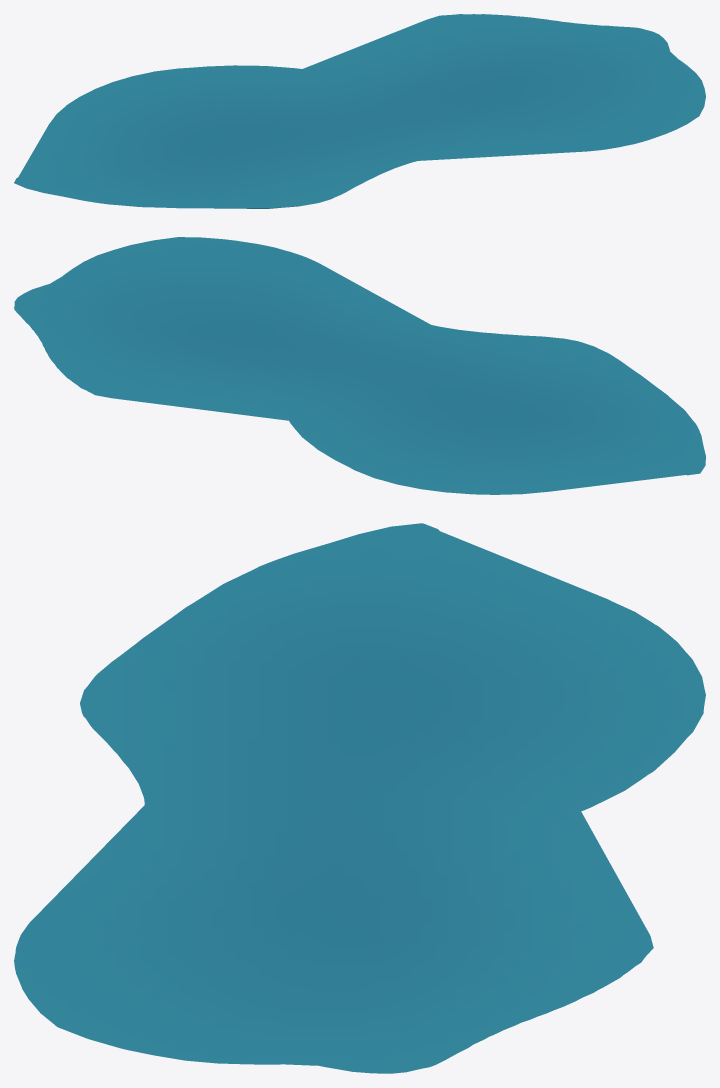
The model's file is see.fbx.
3 views of the same model, one above another, from view 1: azimuth 30°, elevation 25°; view 2: azimuth 150°, elevation 25°; view 3: azimuth 270°, elevation 25° (orthographic). The views are drawn at different scales.
Parts seen in each view (by area): view 1: See; view 2: See; view 3: See.
Boxes of the visible parts, x1,y1,x2,y2 form: See: (14, 14, 705, 208); See: (14, 237, 705, 494); See: (14, 523, 705, 1073).
Size of the model in its own units: 0.415 by 0.2204 by 0.017.
